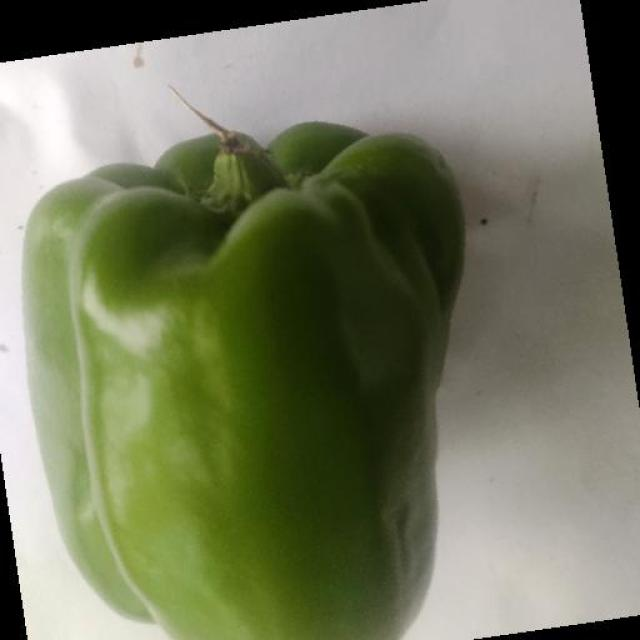Fresh_Capsicum: (26, 146, 444, 640)
